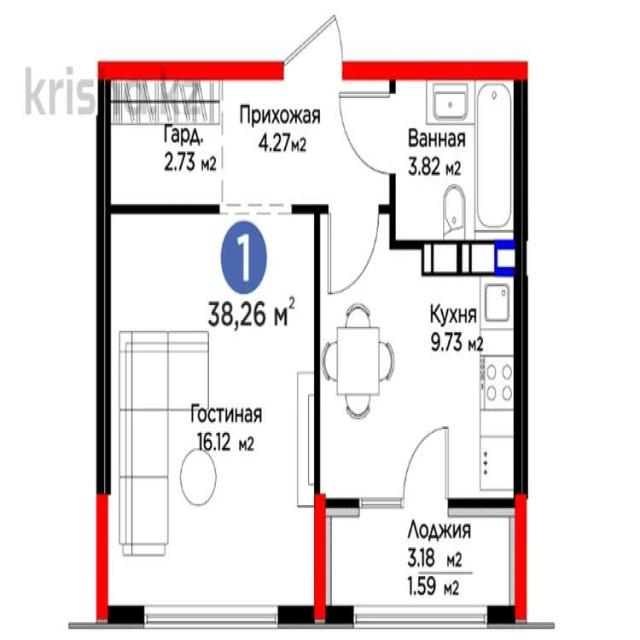balcony: (325, 509, 510, 617)
bathroom: (394, 81, 516, 242)
hallway: (228, 82, 388, 202)
kitchen: (319, 240, 516, 500)
living_room: (109, 213, 317, 608)
other: (108, 72, 223, 204)
